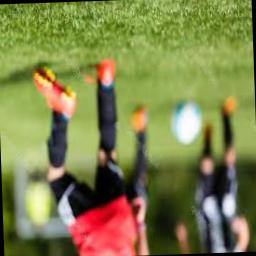football: (171, 98, 204, 146)
